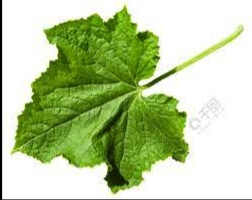cucumber_plant: (16, 14, 244, 189)
